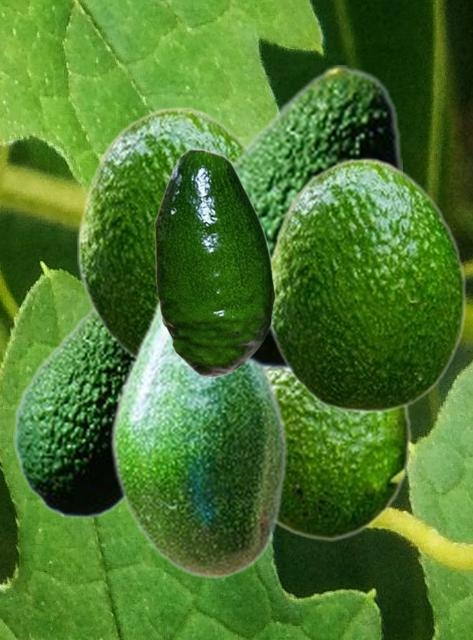avocado: (229, 65, 401, 370), (109, 291, 286, 579), (268, 157, 466, 412), (77, 106, 246, 359), (154, 148, 274, 376), (13, 306, 131, 518), (271, 371, 411, 540)
